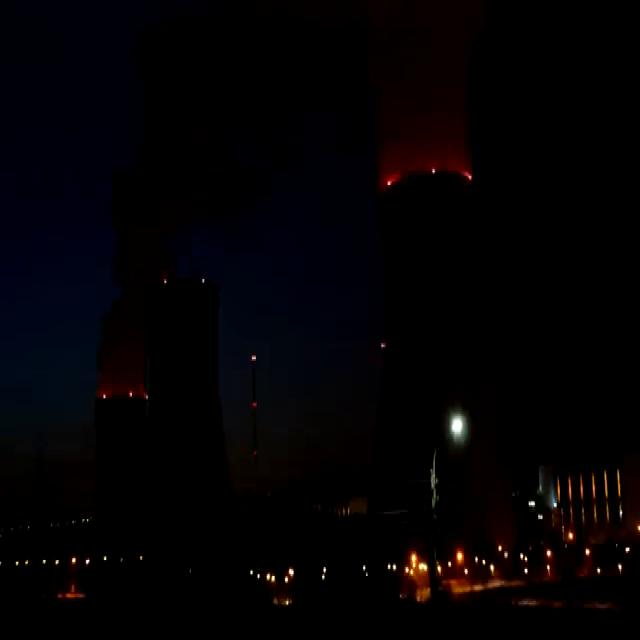smoke: (104, 32, 246, 391), (367, 0, 488, 194)
